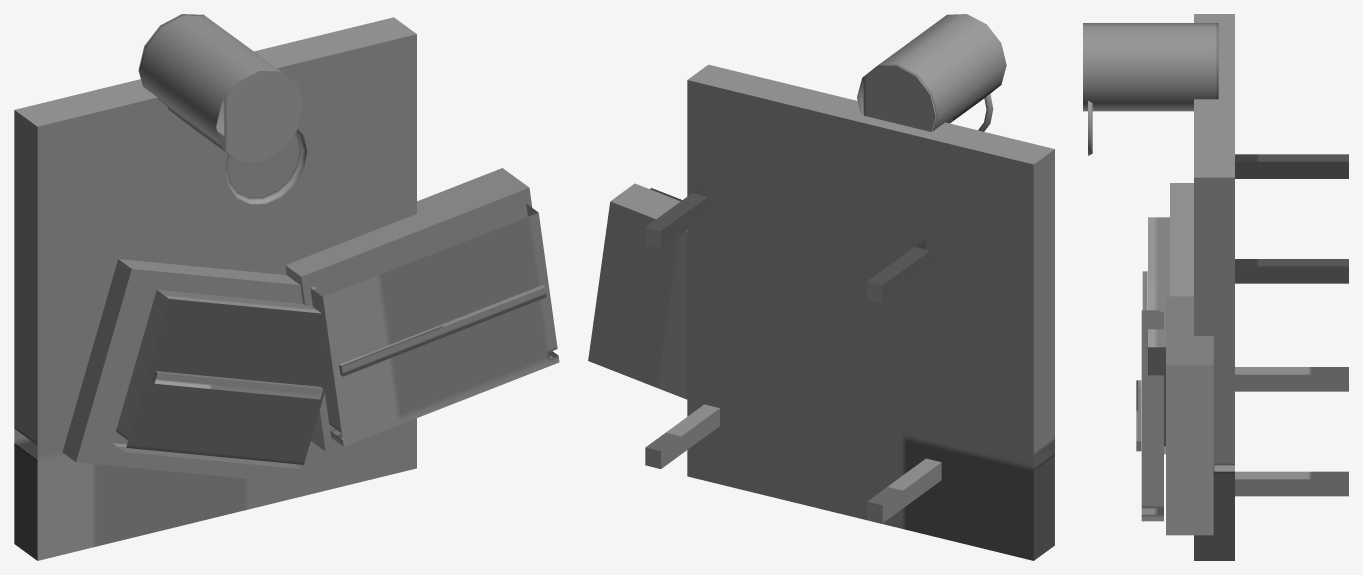
3 renders of one model, left to right at view 1: azimuth 30°, elevation 25°; view 2: azimuth 150°, elevation 25°; view 3: azimuth 270°, elevation 25°, orthographic. The views are drawn at different scales.
Bounding box in the file's own units: 0.8034 × 0.7632 × 0.4188.
